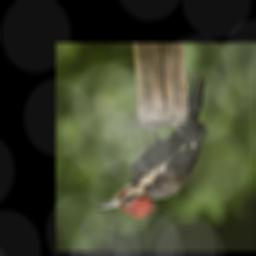Woodpecker: (97, 72, 217, 225)
